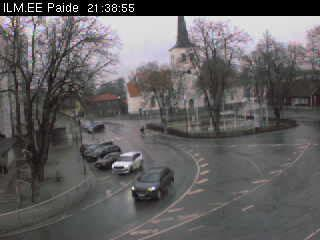car: (130, 166, 176, 201), (112, 150, 144, 175), (94, 152, 127, 170), (82, 140, 115, 158), (87, 144, 121, 161), (82, 120, 100, 131), (87, 123, 105, 134)
person: (140, 125, 146, 138)
